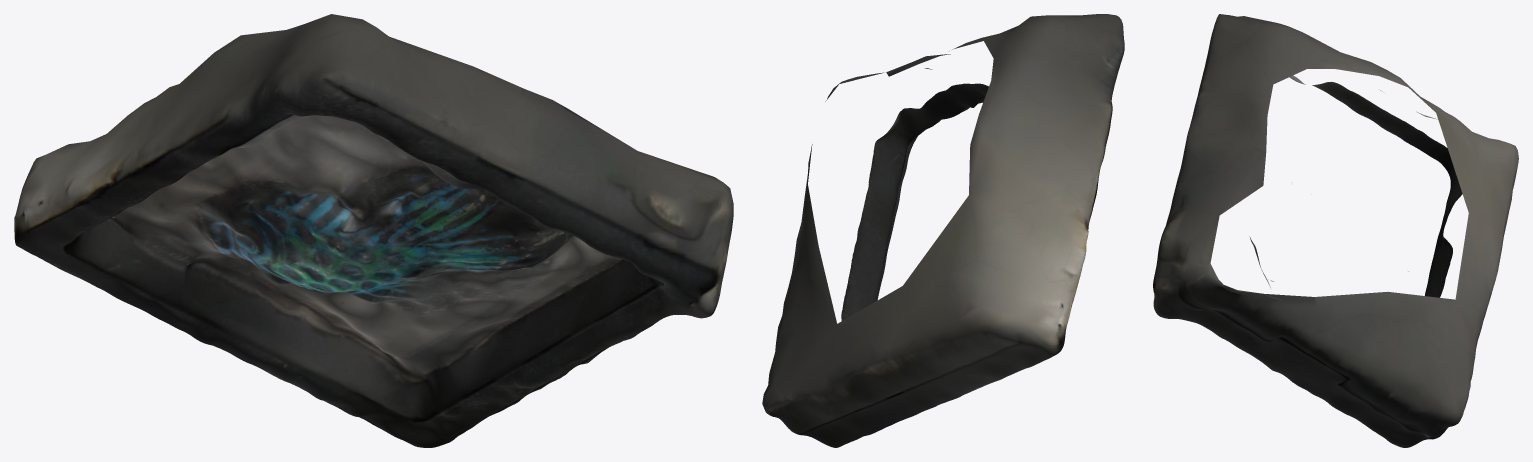
The picture shows the model from 3 angles, left to right: view 1: azimuth 30°, elevation 25°; view 2: azimuth 150°, elevation 25°; view 3: azimuth 270°, elevation 25°; orthographic projection. The views are drawn at different scales.
Size of the model in its own units: 0.723 by 0.7343 by 0.6754.
Materials: 1 (1 with a texture image).
